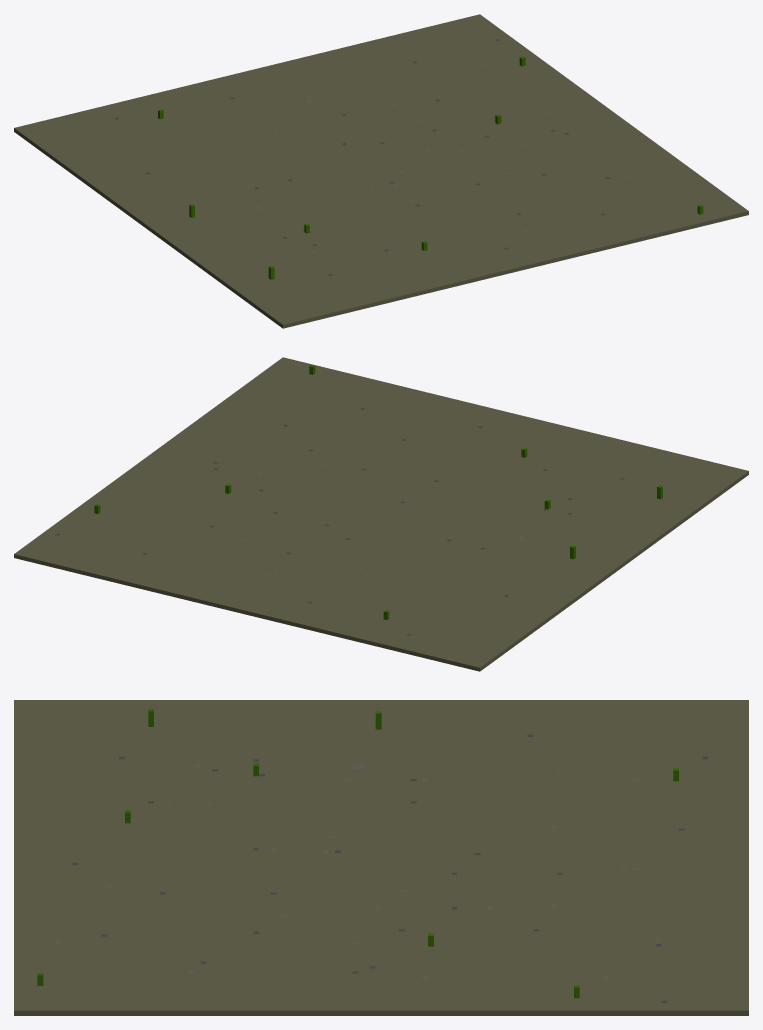
File: terrain_blank.obj
3 renders of one model, top to bottom at view 1: azimuth 30°, elevation 25°; view 2: azimuth 150°, elevation 25°; view 3: azimuth 270°, elevation 25°, orthographic. The views are drawn at different scales.
Size of the model in its own units: 126 by 4 by 126.
1 material, 1 textured.
